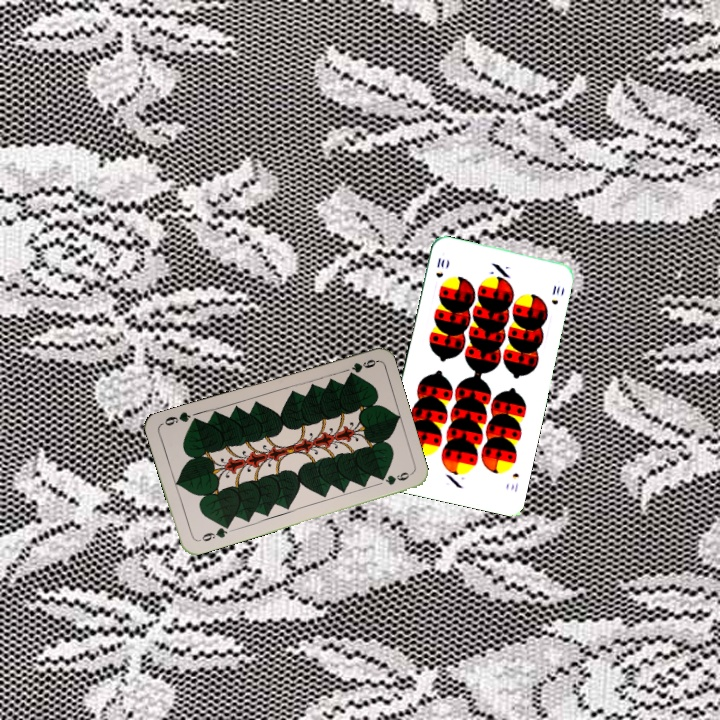G9: (193, 521, 232, 544), (344, 355, 379, 378)
S10: (432, 253, 447, 280), (507, 469, 521, 495)
